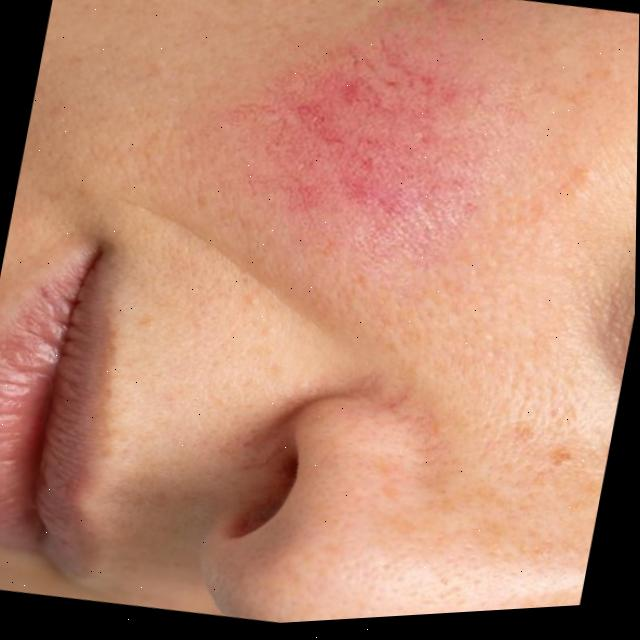Rosacea: (288, 57, 484, 261)
